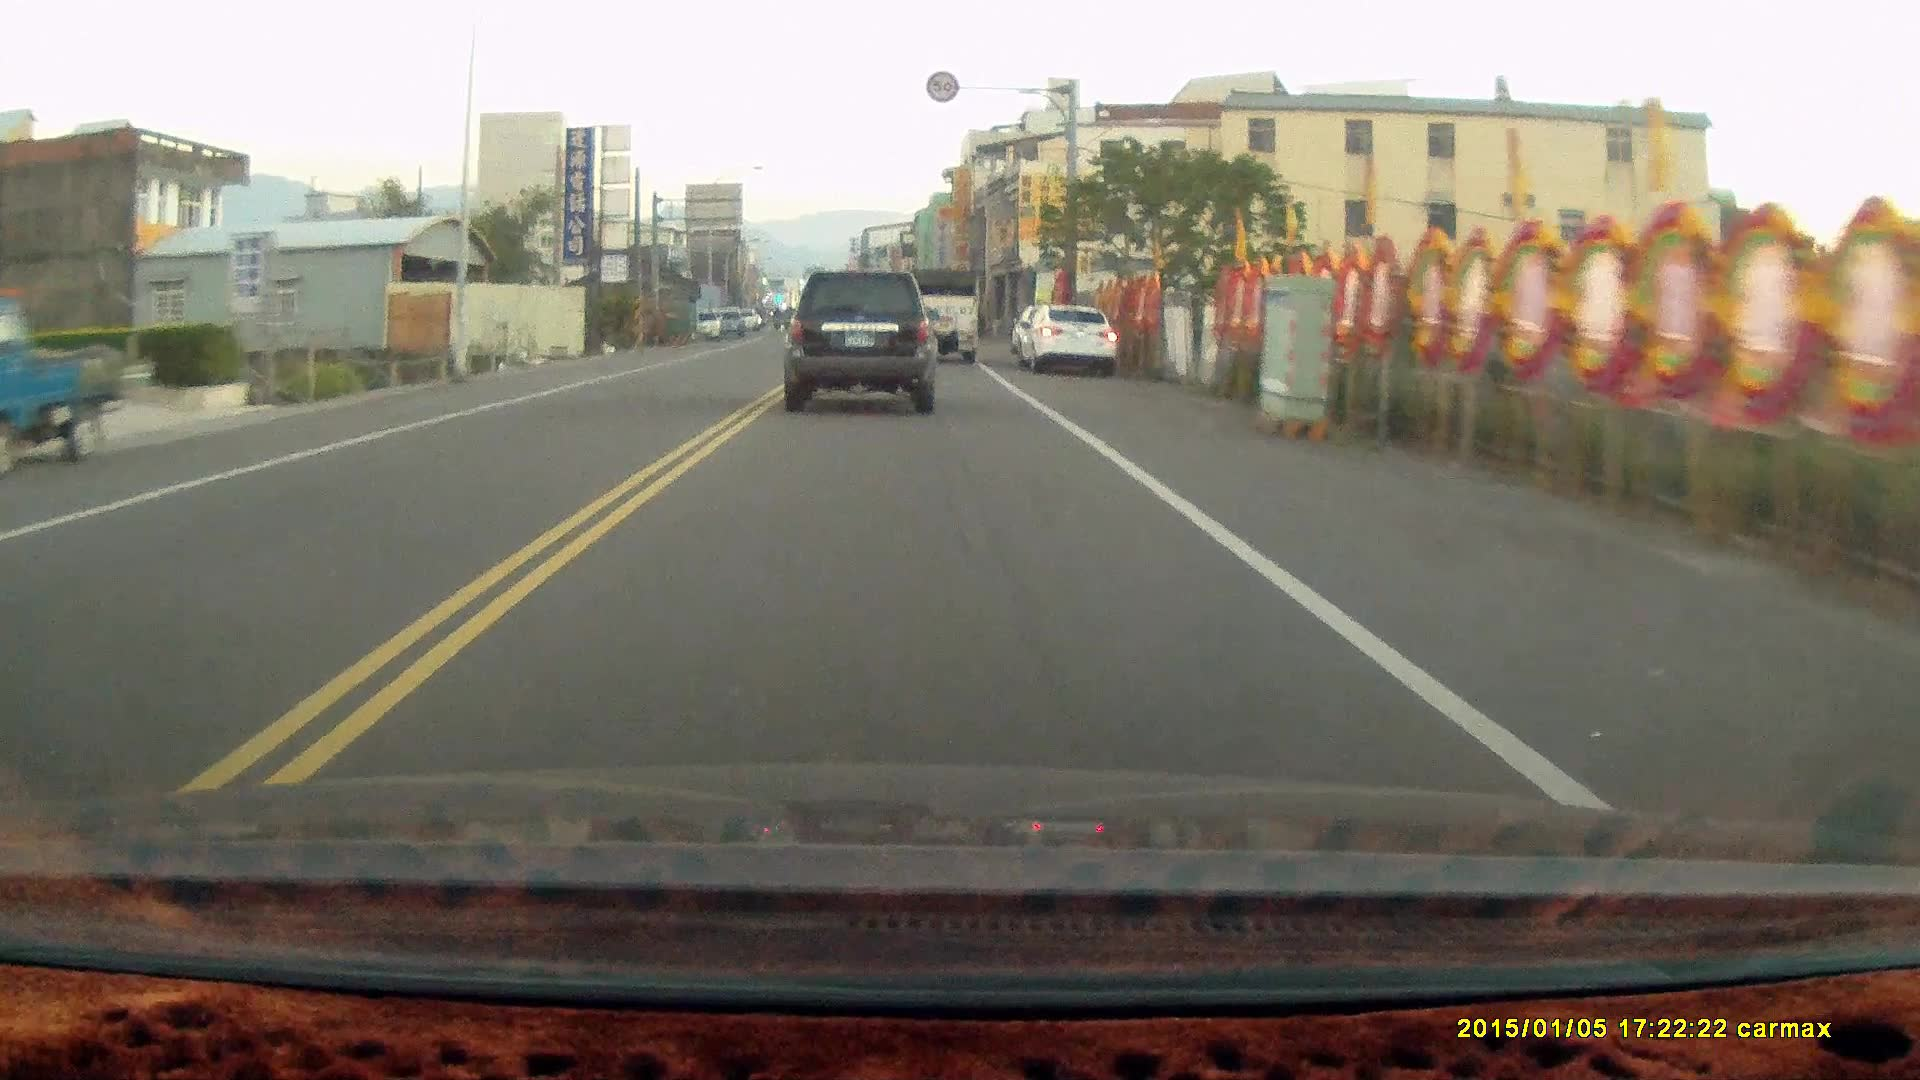vehicle: (1, 289, 121, 481), (783, 258, 936, 405), (907, 266, 982, 365), (1014, 306, 1120, 373)
